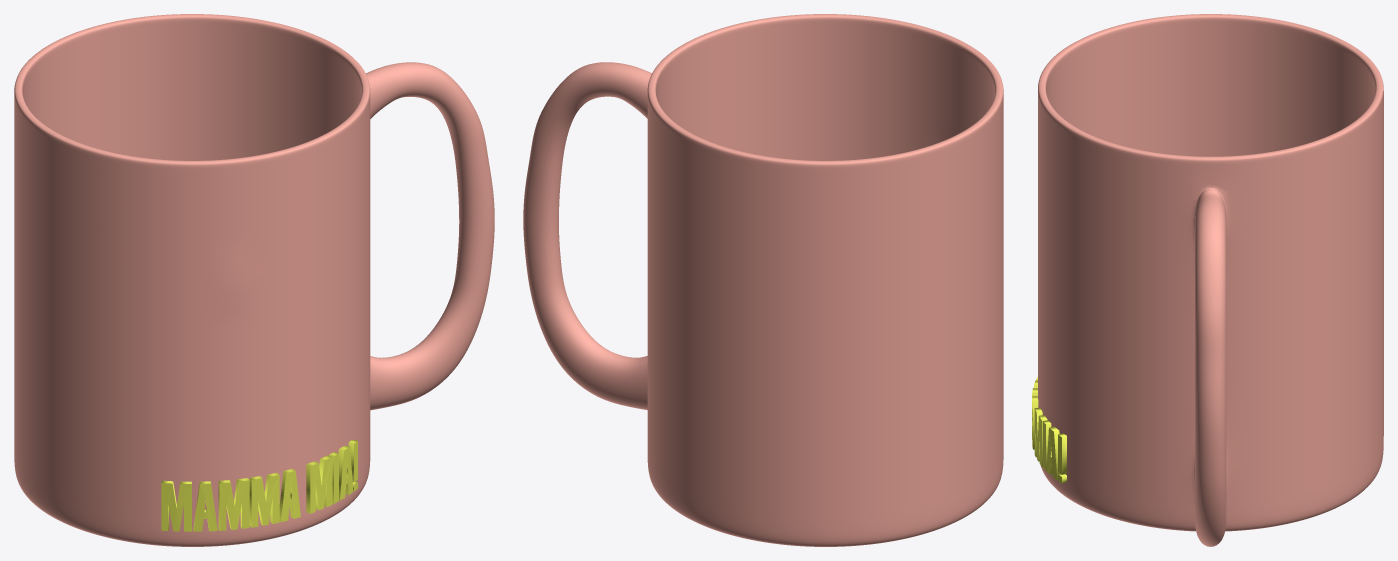
Rendered from cup.fbx.
3 renders of one model, left to right at view 1: azimuth 30°, elevation 25°; view 2: azimuth 150°, elevation 25°; view 3: azimuth 270°, elevation 25°, orthographic. The views are drawn at different scales.
Visible parts, largest first — view 1: Cylinder, Text; view 2: Cylinder; view 3: Cylinder, Text.
Part boxes in pixels (x1,y1,x2,y2): Cylinder: (14, 14, 494, 546); Text: (161, 439, 357, 531); Cylinder: (523, 14, 1003, 546); Cylinder: (1038, 14, 1383, 546); Text: (1032, 377, 1066, 483).
Size of the model in its own units: 37.54 by 30.52 by 25.9.
